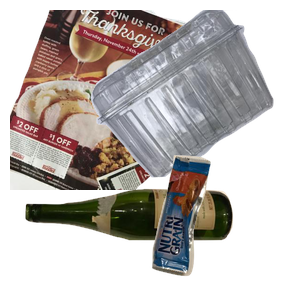glass: (23, 186, 249, 300)
paper: (10, 10, 224, 190)
plastic: (88, 10, 300, 180)
trash: (149, 152, 300, 300)
